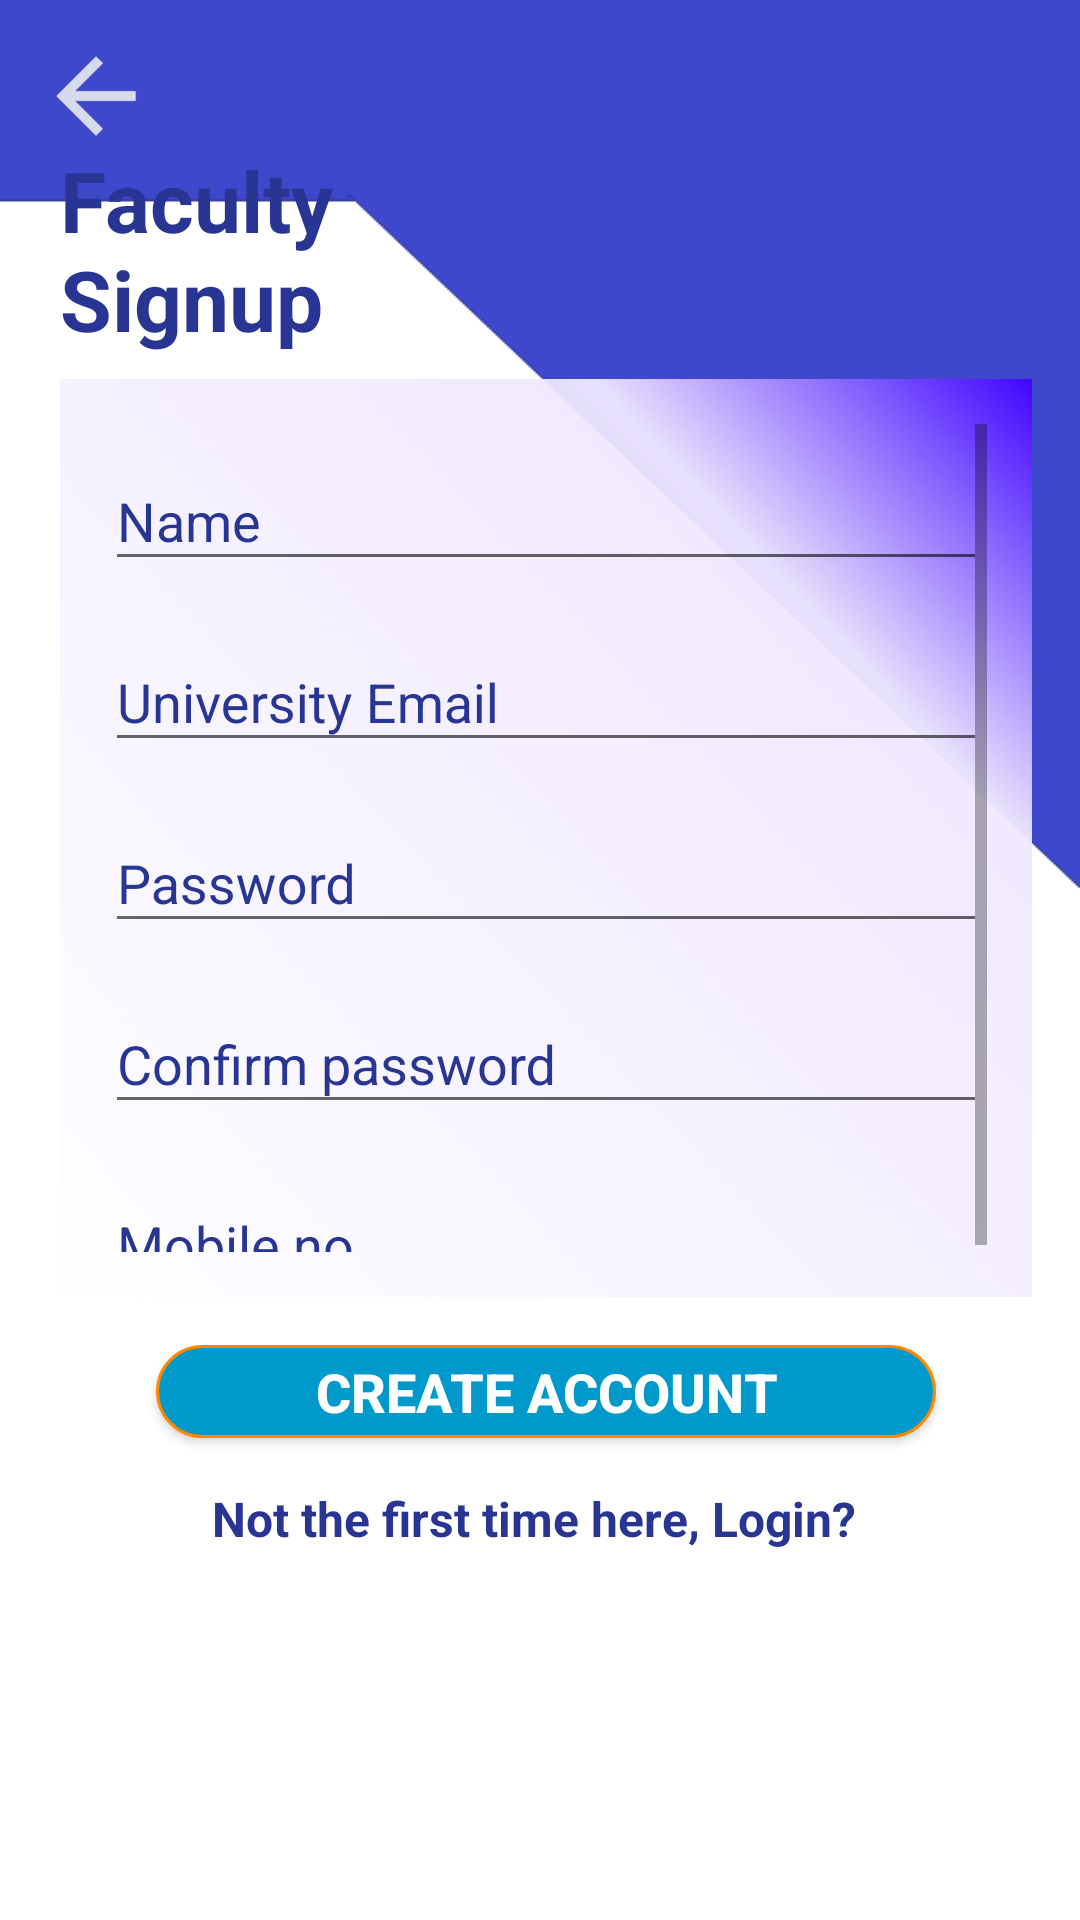

Where icons sit on this 1080px x 1920px app screen, as (x1, y1, x2, y2):
back arrow: (56, 56, 136, 136)
